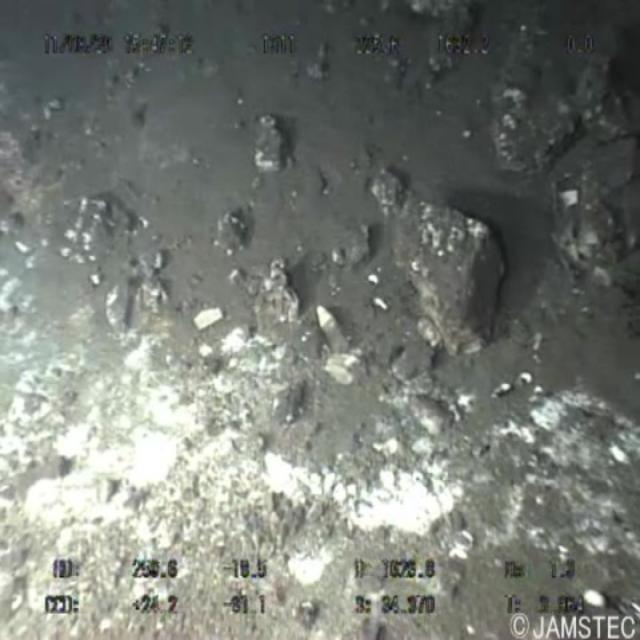Litter: (182, 286, 252, 346)
Plastic: (301, 296, 376, 386)
